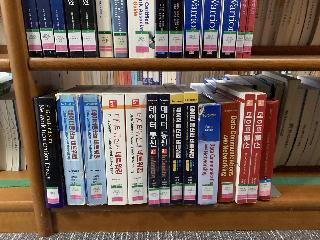book-spine: (33, 95, 64, 209), (56, 93, 86, 206), (78, 93, 108, 205), (102, 94, 127, 206), (195, 103, 221, 205), (125, 94, 148, 204), (216, 101, 240, 203), (247, 93, 267, 203), (257, 99, 278, 201), (237, 93, 255, 204), (182, 92, 198, 205), (169, 94, 184, 205), (147, 94, 159, 207), (159, 94, 170, 206)
